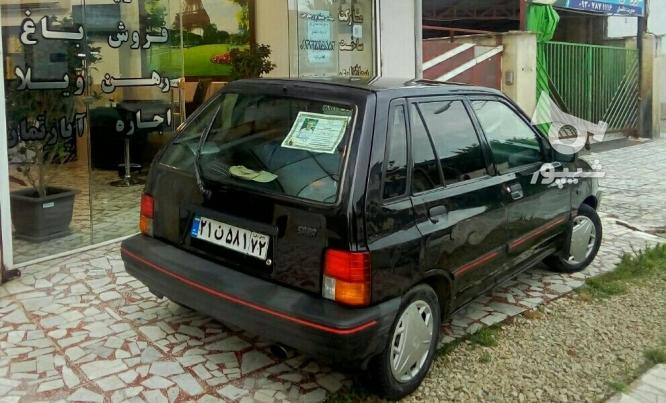car: (190, 212, 272, 262)
